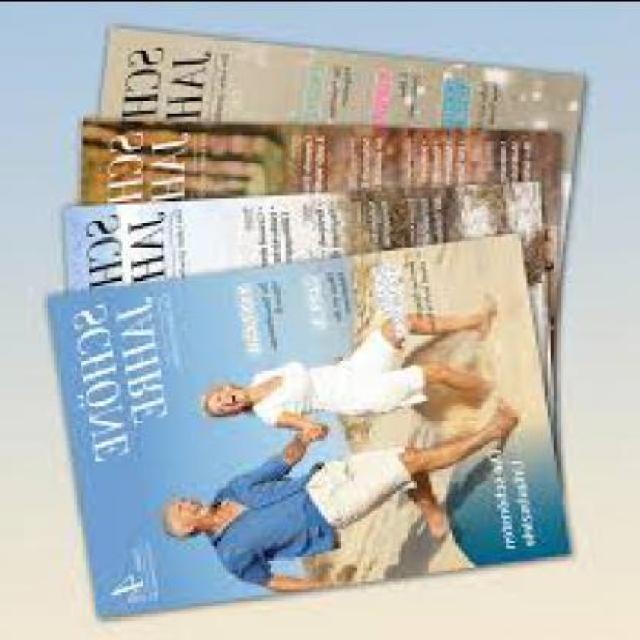PAPER: (45, 228, 562, 612), (94, 22, 584, 315), (60, 175, 554, 457), (77, 115, 560, 350)
